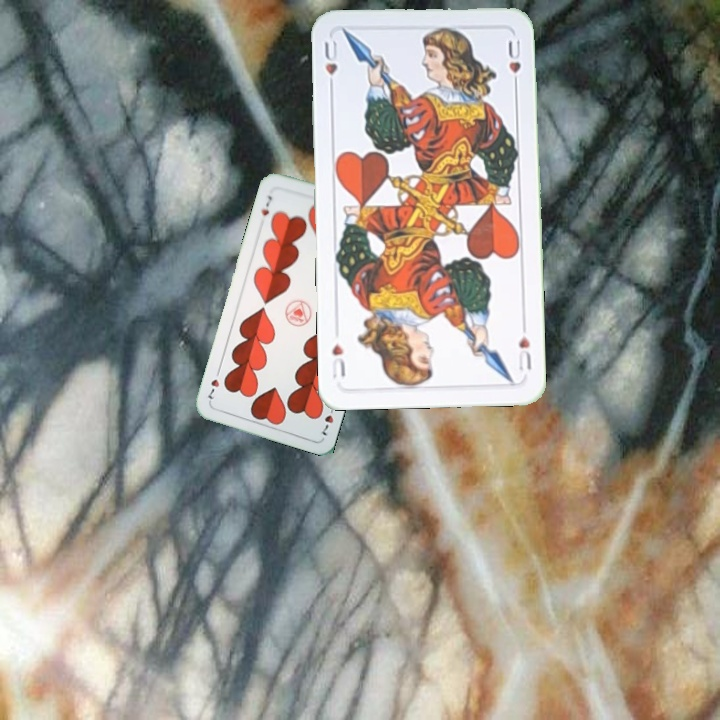H7: (316, 400, 337, 438), (257, 191, 275, 218)
HU: (320, 36, 340, 94), (514, 332, 534, 373)
